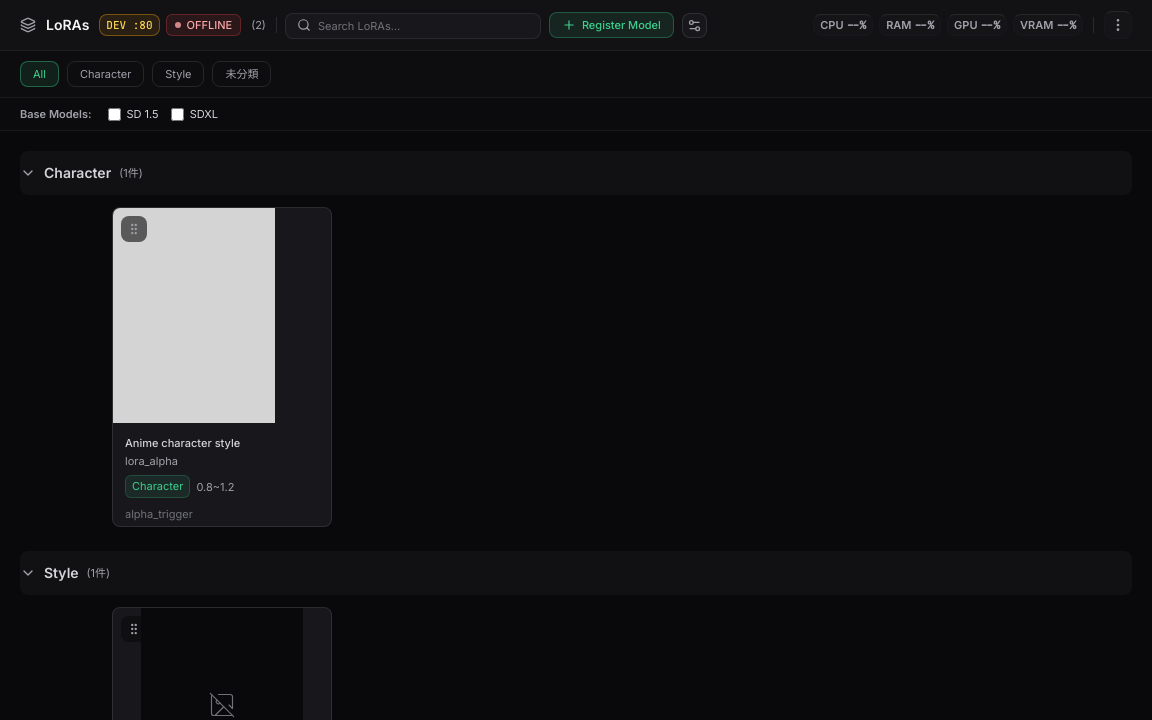
Test: LoRAsPage Component › filters LoRAs by text search
In the field with placeholder "Search LoRAs…": (413, 26) [285,12,541,38], type "scenery"
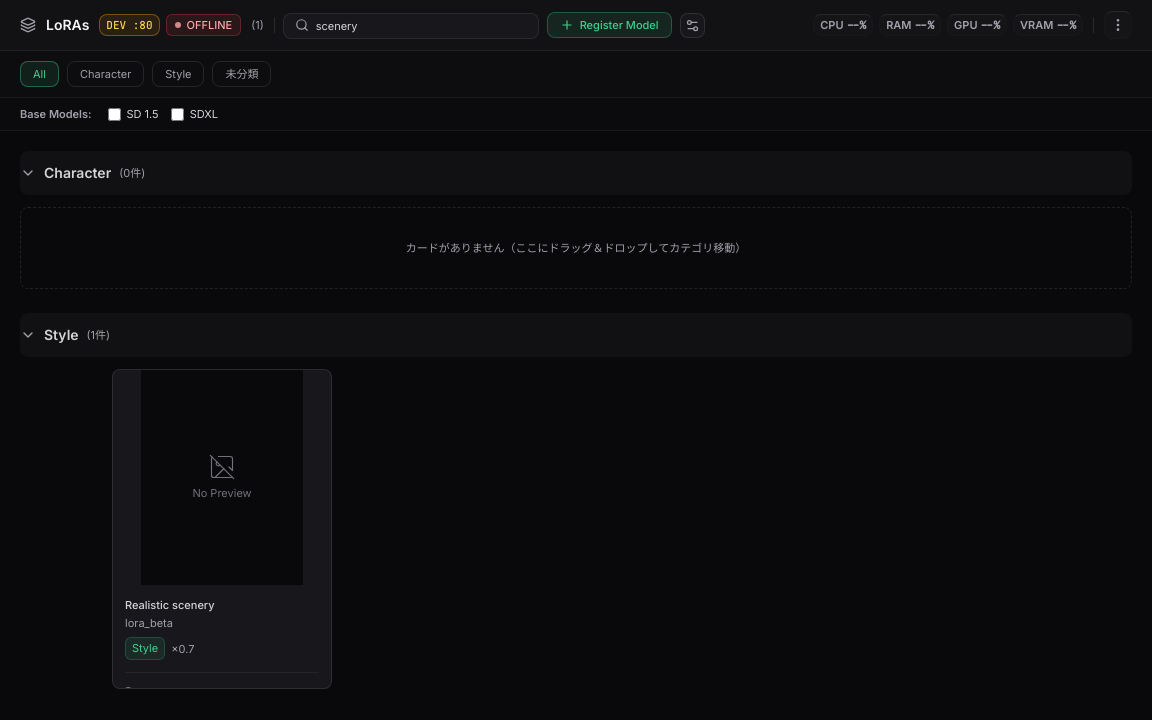
Result: the text "lora_alpha" is gone
